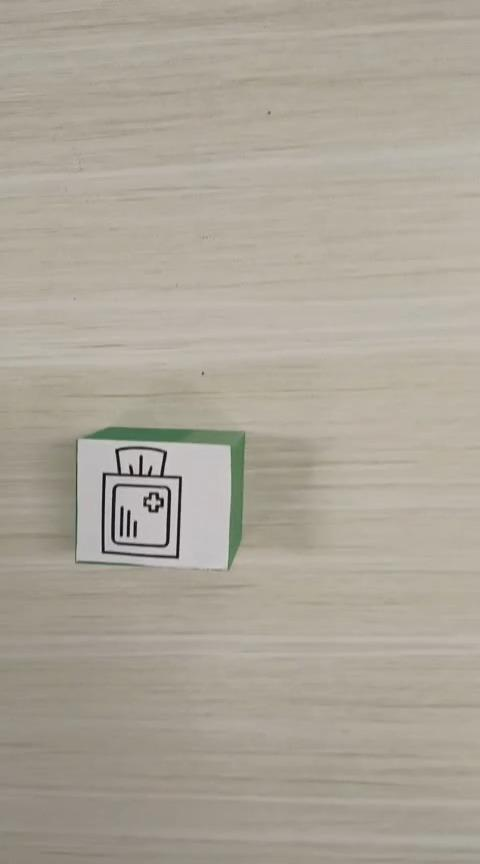Gauze: (73, 425, 246, 572)
